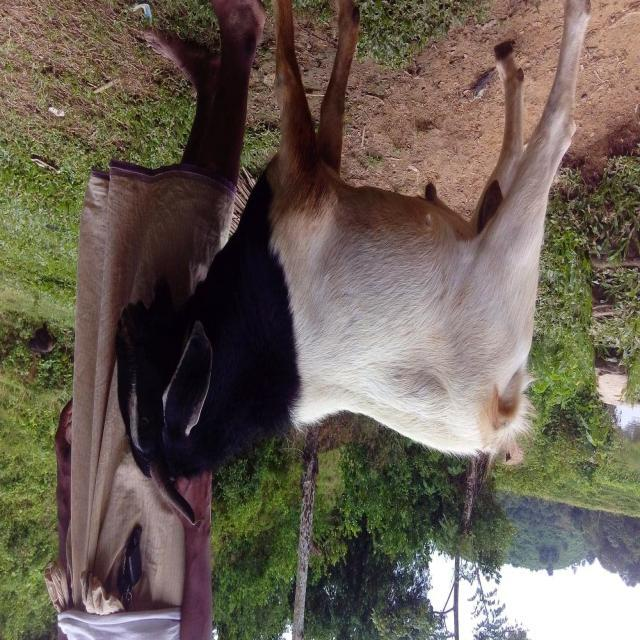Goat: (114, 2, 592, 528)
